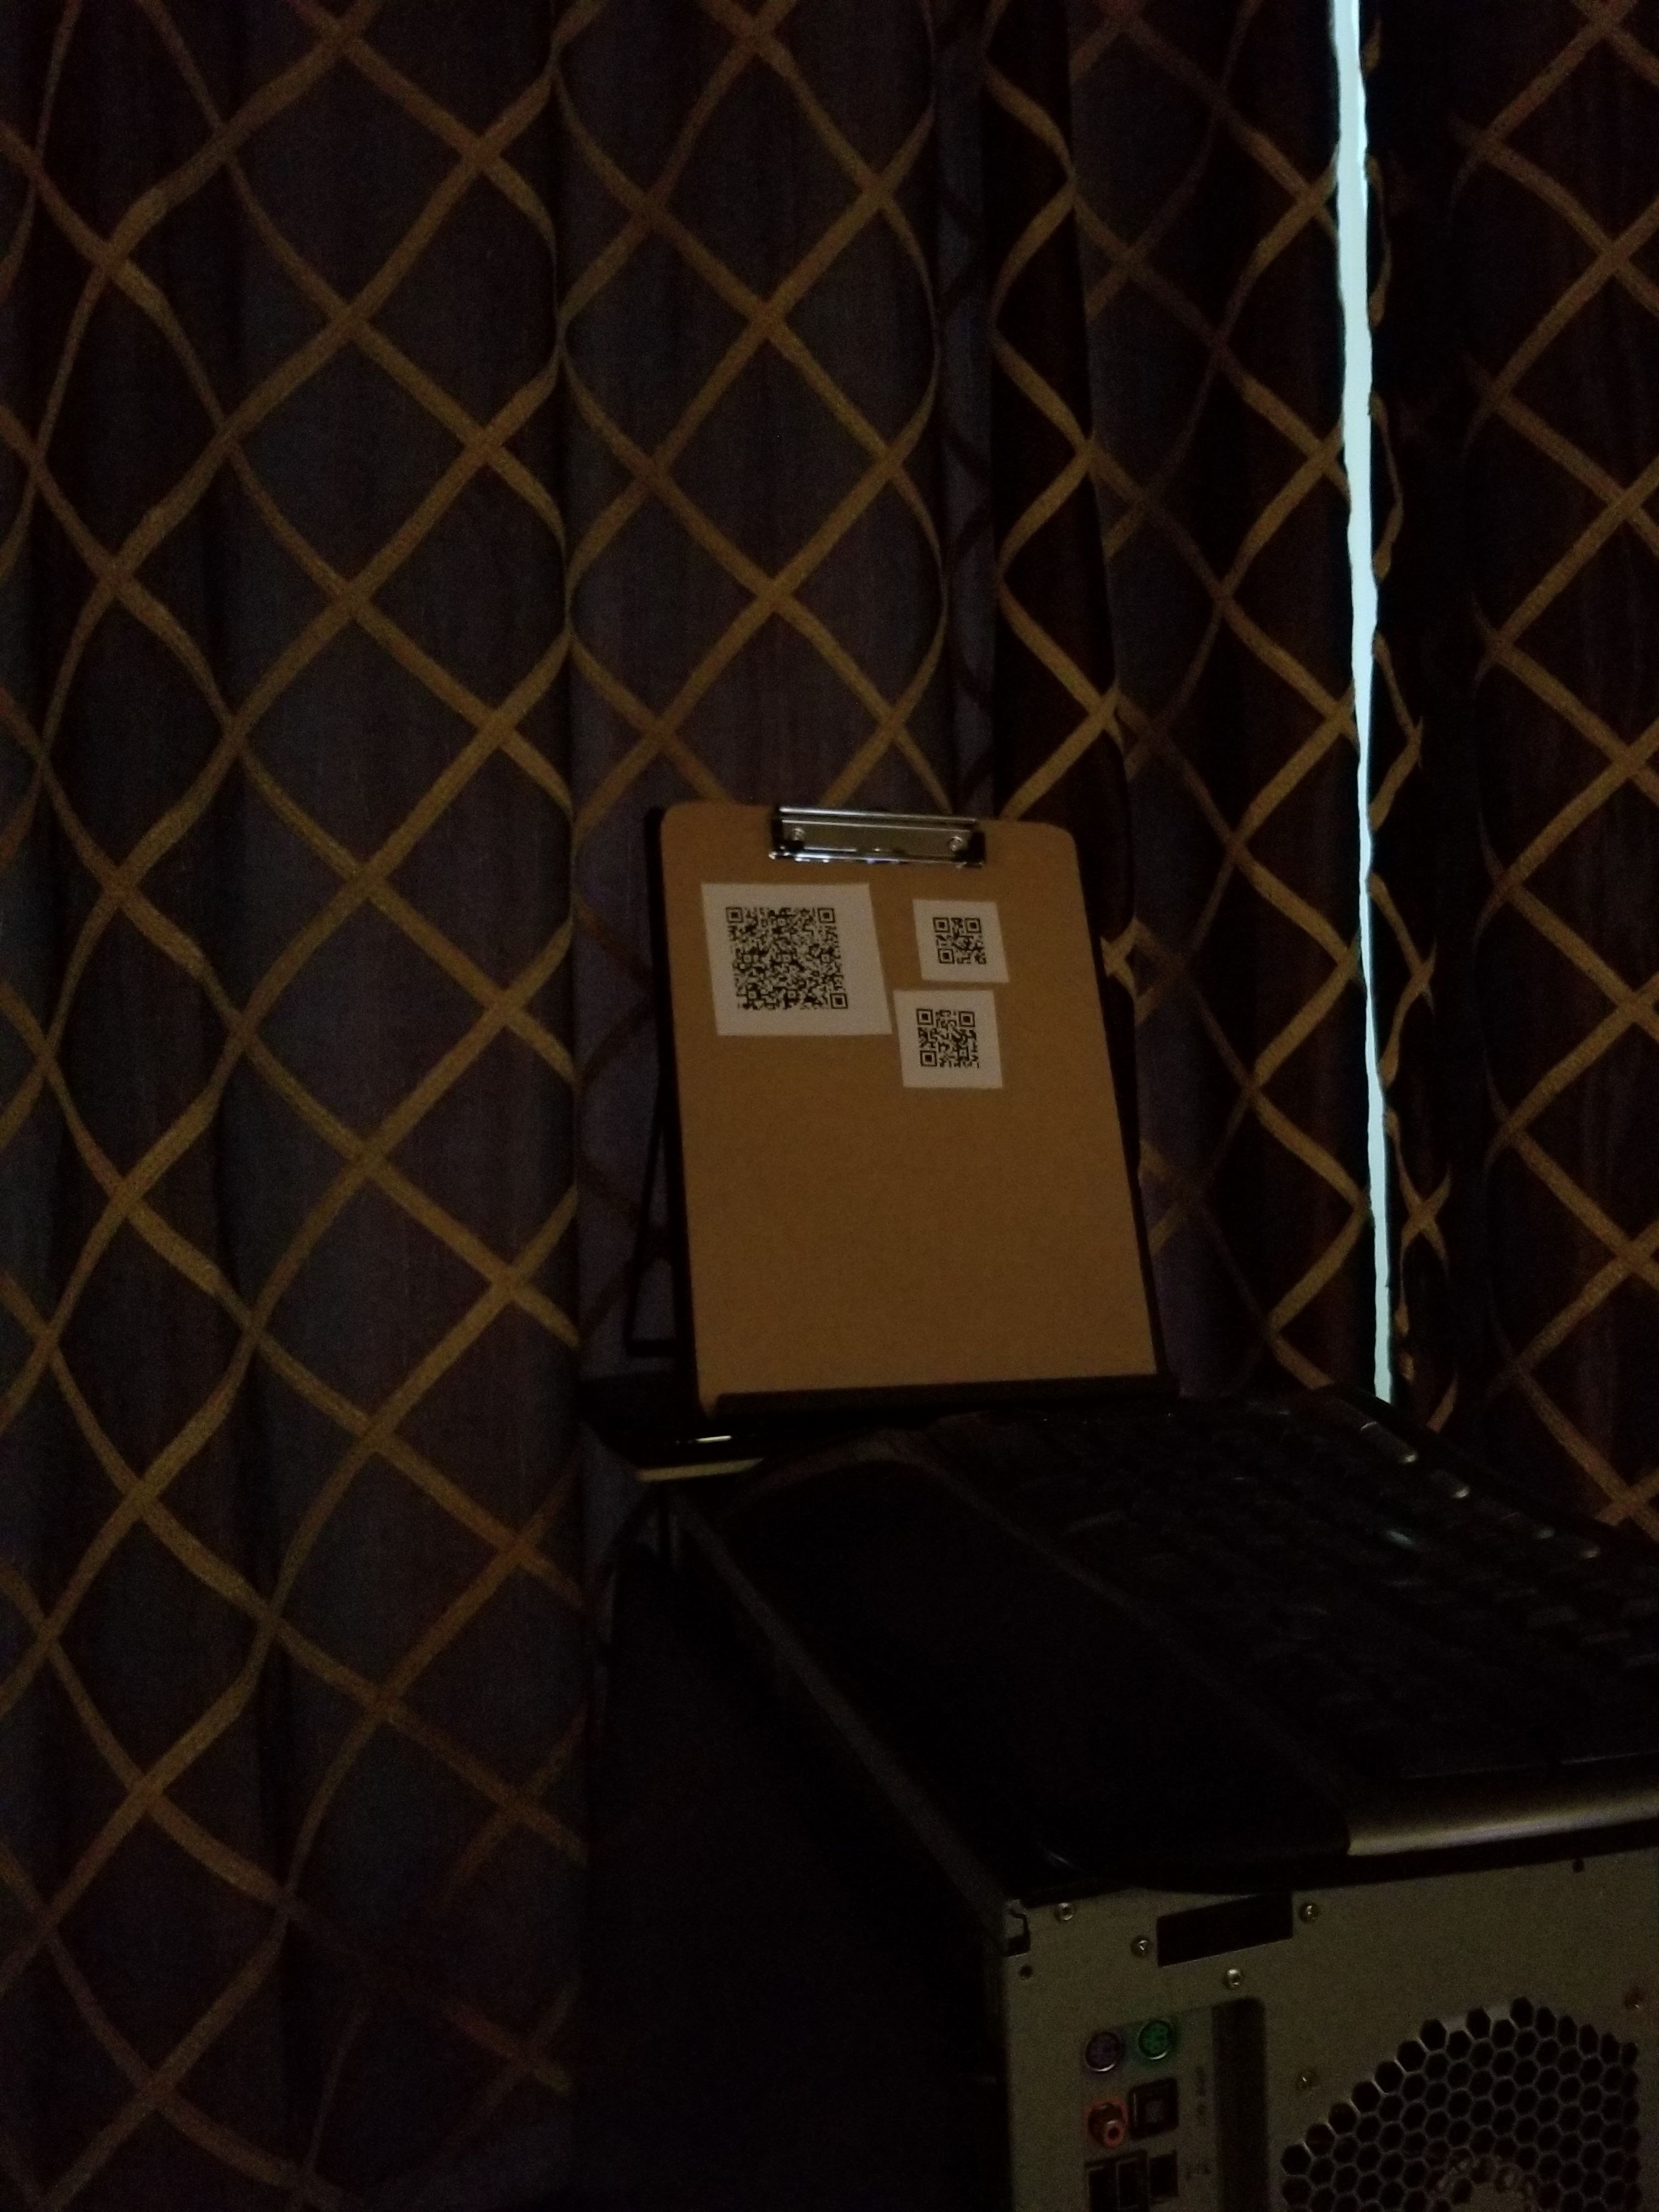QR_CODE: (711, 881, 861, 1031), (903, 988, 997, 1083), (924, 897, 1004, 977)
